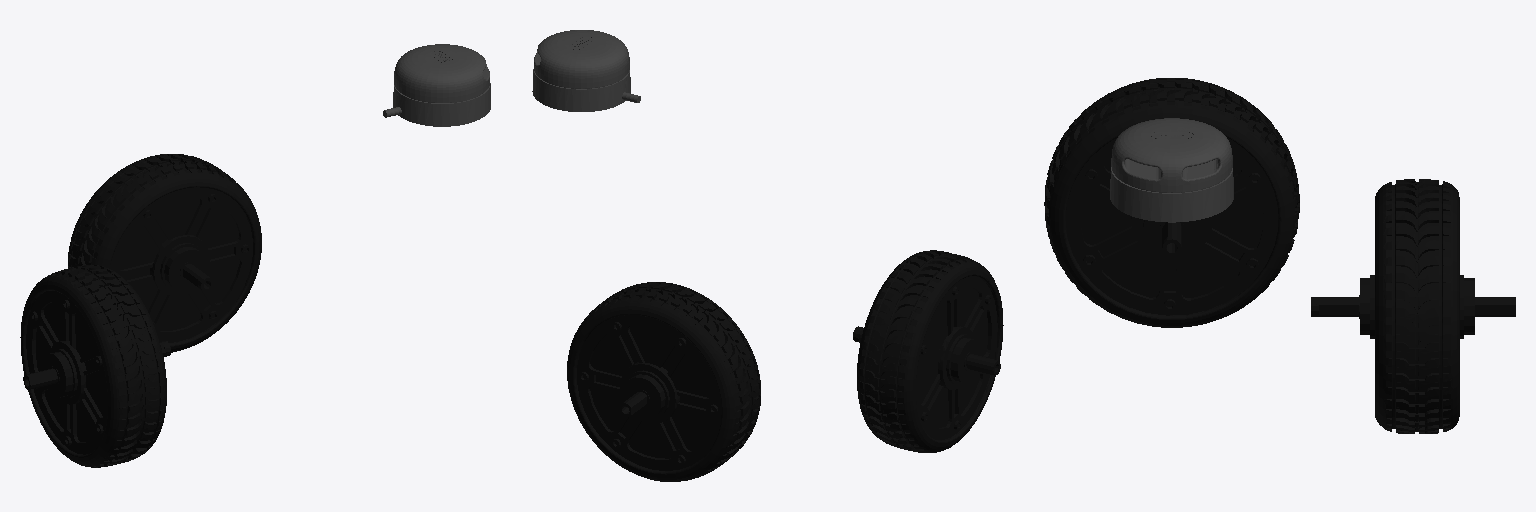
The robot description file, URDF, robot "webot":
<robot
  name="webot">
  <link
    name="base_link">
    <inertial>
      <origin
        xyz="-0.000802846399736979 0.112304432932504 -0.000209356485458768"
        rpy="1.57 3.14159 1.57" />
      <mass
        value="2.75602153820199" />
      <inertia
        ixx="0.0528941000422198"
        ixy="-0.000162963253512676"
        ixz="0.000219518600719061"
        iyy="0.0413606825276654"
        iyz="0.00121714858076359"
        izz="0.0417570844864507" />
    </inertial>
    <visual>
      <origin
        xyz="0 0 0"
        rpy="1.57 3.14159 1.57" />
      <geometry>
        <mesh
          filename="package://webot_description/webot/meshes/base_link.STL" />
      </geometry>
      <material
        name="">
        <color
          rgba="0.5 0.7 0.5 1" />
      </material>
    </visual>
    <collision>
      <origin
        xyz="0 0 0"
        rpy="1.57 3.14159 1.57" />
      <geometry>
        <mesh
          filename="package://webot_description/webot/meshes/base_link.STL" />
      </geometry>
    </collision>
  </link>
  <link
    name="wheel_r_Link">
    <inertial>
      <origin
        xyz="-0.150060560340058 4.97129955467677E-07 -0.019997268674587"
        rpy="0 0 0" />
      <mass
        value="0.833379717609032" />
      <inertia
        ixx="0.00236992524297203"
        ixy="-4.72073427371933E-08"
        ixz="-2.28324902677571E-07"
        iyy="0.00135168070000041"
        iyz="-1.90178340613445E-08"
        izz="0.00135164335754289" />
    </inertial>
    <visual>
      <origin
        xyz="0 0 0"
        rpy="0 0 0" />
      <geometry>
        <mesh
          filename="package://webot_description/webot/meshes/wheel_r_Link.STL" />
      </geometry>
      <material
        name="">
        <color
          rgba="0.1 0.1 0.1 1" />
      </material>
    </visual>
    <collision>
      <origin
        xyz="0 0 0"
        rpy="0 0 0" />
      <geometry>
        <mesh
          filename="package://webot_description/webot/meshes/wheel_r_Link.STL" />
      </geometry>
    </collision>
  </link>
  <joint
    name="wheel_r"
    type="fixed">
    <origin
      xyz="0 0 0"
      rpy="1.5708 0 0" />
    <parent
      link="base_link" />
    <child
      link="wheel_r_Link" />
    <axis
      xyz="0 0 0" />
  </joint>
  <link
    name="wheel_l_Link">
    <inertial>
      <origin
        xyz="0.150060560255534 -2.42861253555092E-06 -0.0199986538563866"
        rpy="0 0 0" />
      <mass
        value="0.833379652997034" />
      <inertia
        ixx="0.00236992502077593"
        ixy="-2.06573890448914E-07"
        ixz="1.07998897068016E-07"
        iyy="0.00135163944655637"
        iyz="1.45662909139635E-08"
        izz="0.00135168433663293" />
    </inertial>
    <visual>
      <origin
        xyz="0 0 0"
        rpy="0 0 0" />
      <geometry>
        <mesh
          filename="package://webot_description/webot/meshes/wheel_l_Link.STL" />
      </geometry>
      <material
        name="">
        <color
          rgba="0.1 0.1 0.1 1" />
      </material>
    </visual>
    <collision>
      <origin
        xyz="0 0 0"
        rpy="0 0 0" />
      <geometry>
        <mesh
          filename="package://webot_description/webot/meshes/wheel_l_Link.STL" />
      </geometry>
    </collision>
  </link>
  <joint
    name="wheel_l"
    type="fixed">
    <origin
      xyz="0 0 0"
      rpy="1.5708 0 0" />
    <parent
      link="base_link" />
    <child
      link="wheel_l_Link" />
    <axis
      xyz="0 0 0" />
  </joint>
  <link
    name="laser_Link">
    <inertial>
      <origin
        xyz="-3.9779488025298E-05 0.15896389076875 -0.187530640956521"
        rpy="0 0 0" />
      <mass
        value="0.159593614437567" />
      <inertia
        ixx="7.4298723391974E-05"
        ixy="7.29719771131733E-10"
        ixz="-9.88379141939317E-10"
        iyy="7.38794309427269E-05"
        iyz="-1.62517390760294E-06"
        izz="0.000107403329024307" />
    </inertial>
    <visual>
      <origin
        xyz="0 0 0"
        rpy="0 0 0" />
      <geometry>
        <mesh
          filename="package://webot_description/webot/meshes/laser_Link.STL" />
      </geometry>
      <material
        name="">
        <color
          rgba="0.3 0.3 0.3 1" />
      </material>
    </visual>
    <collision>
      <origin
        xyz="0 0 0"
        rpy="0 0 0" />
      <geometry>
        <mesh
          filename="package://webot_description/webot/meshes/laser_Link.STL" />
      </geometry>
    </collision>
  </link>
  <joint
    name="laser"
    type="fixed">
    <origin
      xyz="0 0 0"
      rpy="1.5707963267949 0 0" />
    <parent
      link="base_link" />
    <child
      link="laser_Link" />
    <axis
      xyz="0 0 0" />
  </joint>
</robot>

--- What the picture shows (computed from the rendered views, not written in the file) ---
3 views of the same robot in one strip: view 1: azimuth 30°, elevation 25°; view 2: azimuth 150°, elevation 25°; view 3: azimuth 270°, elevation 25° (orthographic).
Model webot with 4 links and 3 joints (3 fixed), rooted at base_link, posed all joints at 0.
Links seen in each view (by area): view 1: wheel_l_Link, wheel_r_Link, laser_Link; view 2: wheel_l_Link, wheel_r_Link, laser_Link; view 3: wheel_r_Link, wheel_l_Link, laser_Link.
Link boxes in pixels (x1,y1,x2,y2): wheel_l_Link: (68, 154, 261, 352); wheel_r_Link: (20, 265, 170, 467); laser_Link: (383, 44, 490, 126); wheel_l_Link: (567, 282, 760, 481); wheel_r_Link: (853, 250, 1003, 452); laser_Link: (532, 30, 640, 111); wheel_r_Link: (1044, 78, 1299, 327); wheel_l_Link: (1311, 179, 1515, 433); laser_Link: (1110, 118, 1233, 222).
Size in the robot's own frame: 0.4075 by 0.2874 by 0.2679 metres.
3 mesh visuals loaded from 4 distinct referenced files (3 binary STL); not drawn: 1 (reference not matched to a file when rendering).